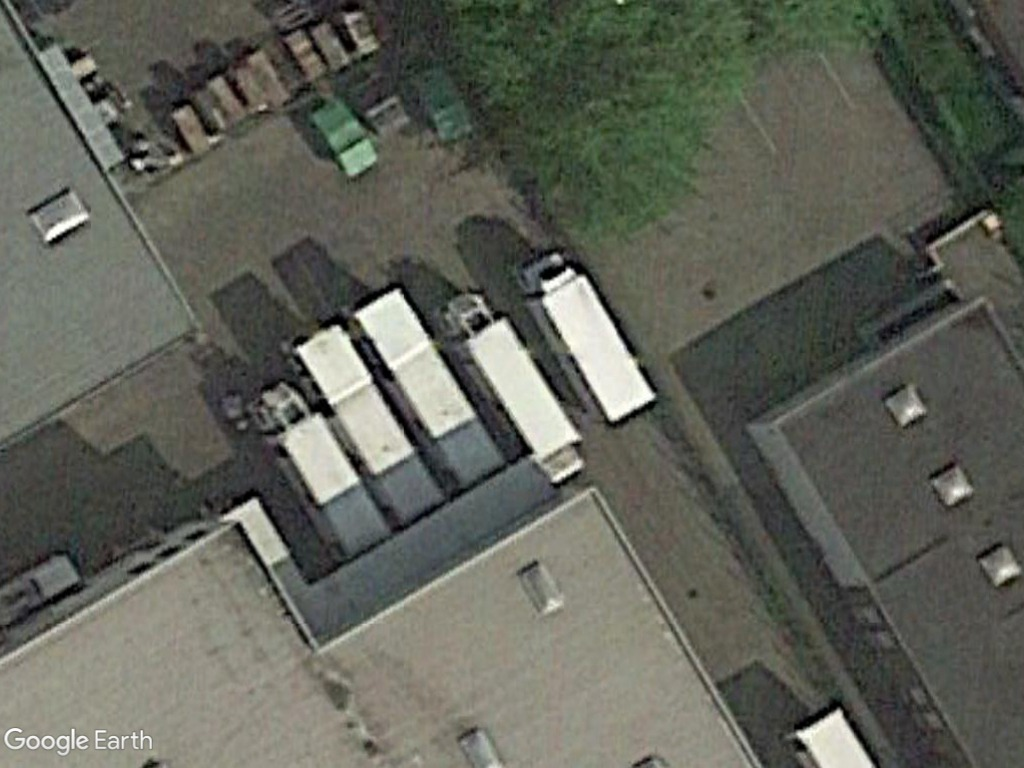longvehicle: (279, 313, 447, 531), (349, 284, 505, 483)
truck: (426, 294, 581, 471), (509, 248, 660, 426), (249, 381, 395, 555)
